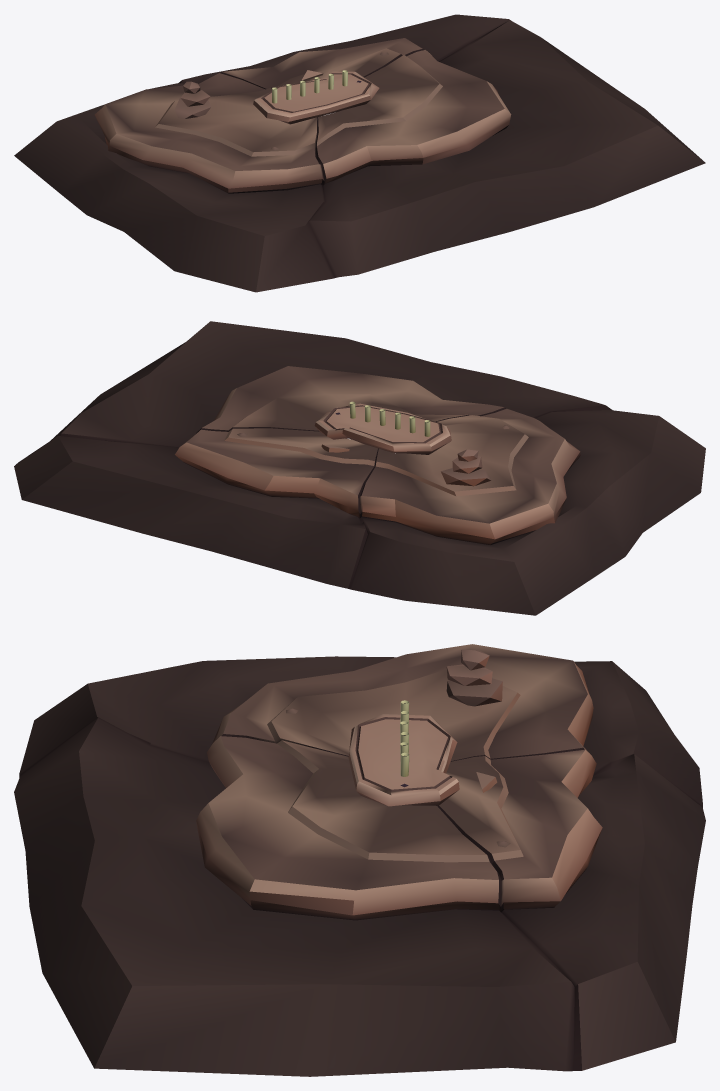
Rendered from prop_rim_stone.glb.
3 views of the same model, one above another, from view 1: azimuth 30°, elevation 25°; view 2: azimuth 150°, elevation 25°; view 3: azimuth 270°, elevation 25° (orthographic). The views are drawn at different scales.
Visible parts, largest first — view 1: prop_rim_stone_mesh, prop_rim_stone_brass; view 2: prop_rim_stone_mesh, prop_rim_stone_brass; view 3: prop_rim_stone_mesh, prop_rim_stone_brass.
Part boxes in pixels (box(x1,y1,x2,y2)): prop_rim_stone_mesh: box(14, 14, 705, 292); prop_rim_stone_brass: box(272, 70, 361, 103); prop_rim_stone_mesh: box(14, 321, 705, 615); prop_rim_stone_brass: box(335, 401, 430, 436); prop_rim_stone_mesh: box(14, 644, 705, 1076); prop_rim_stone_brass: box(400, 700, 409, 787).
Bounding box in the file's own units: 4.12 × 0.6445 × 3.08.
